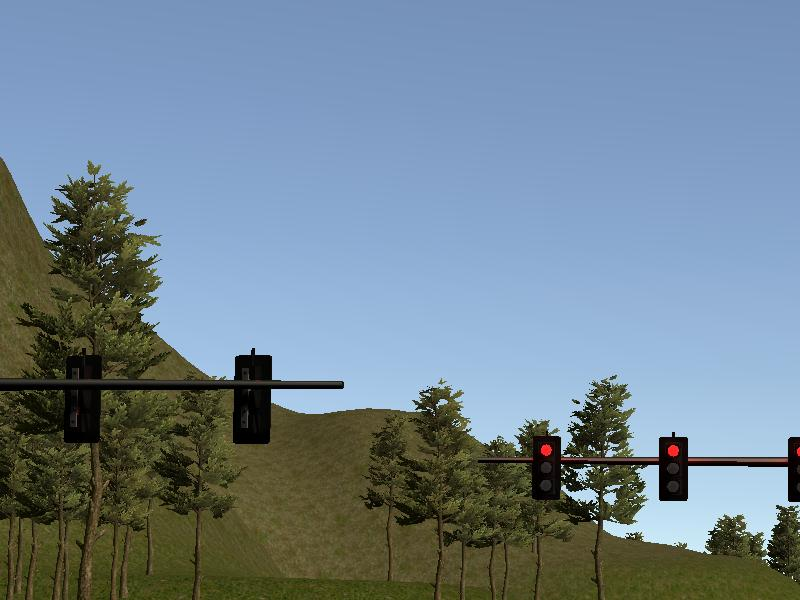Red: (531, 437, 562, 500), (658, 437, 687, 501), (788, 437, 800, 501)
